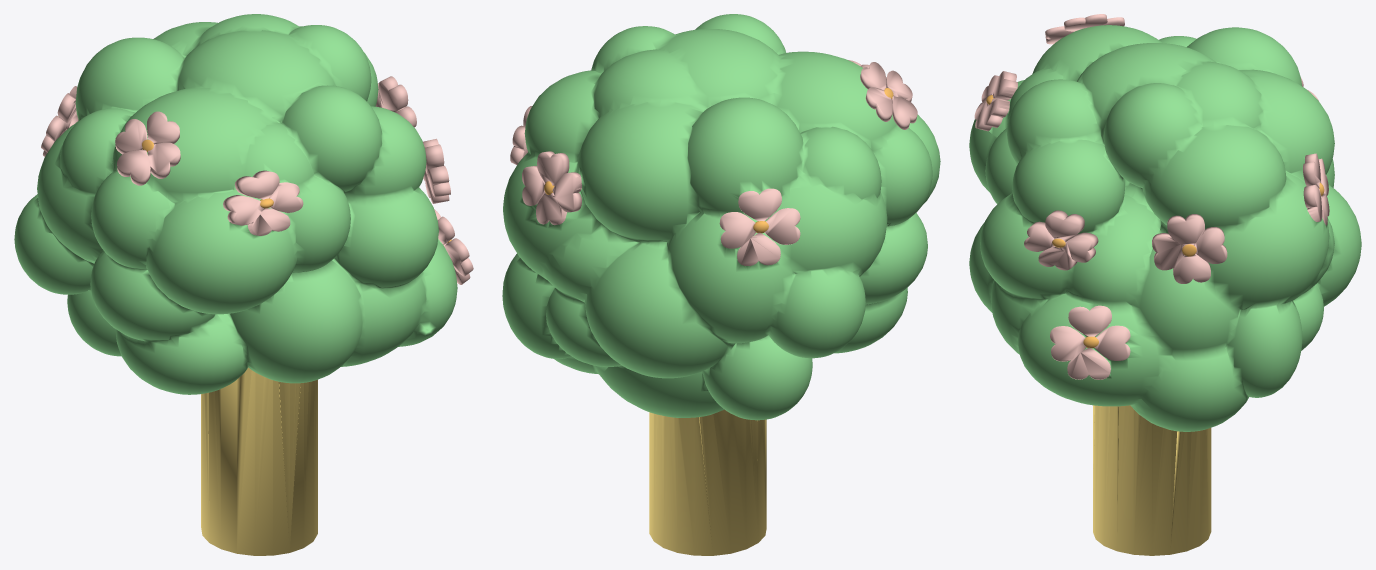
File: level8.glb
The picture shows the model from 3 angles, left to right: view 1: azimuth 30°, elevation 25°; view 2: azimuth 150°, elevation 25°; view 3: azimuth 270°, elevation 25°; orthographic projection. The views are drawn at different scales.
Visible parts, largest first — view 1: obj_0; view 2: obj_0; view 3: obj_0.
Boxes of the visible parts, box(x1,y1,x2,y2) form: obj_0: box(14, 14, 473, 555); obj_0: box(502, 14, 940, 555); obj_0: box(969, 14, 1361, 555).
Size of the model in its own units: 76 by 98 by 73.
